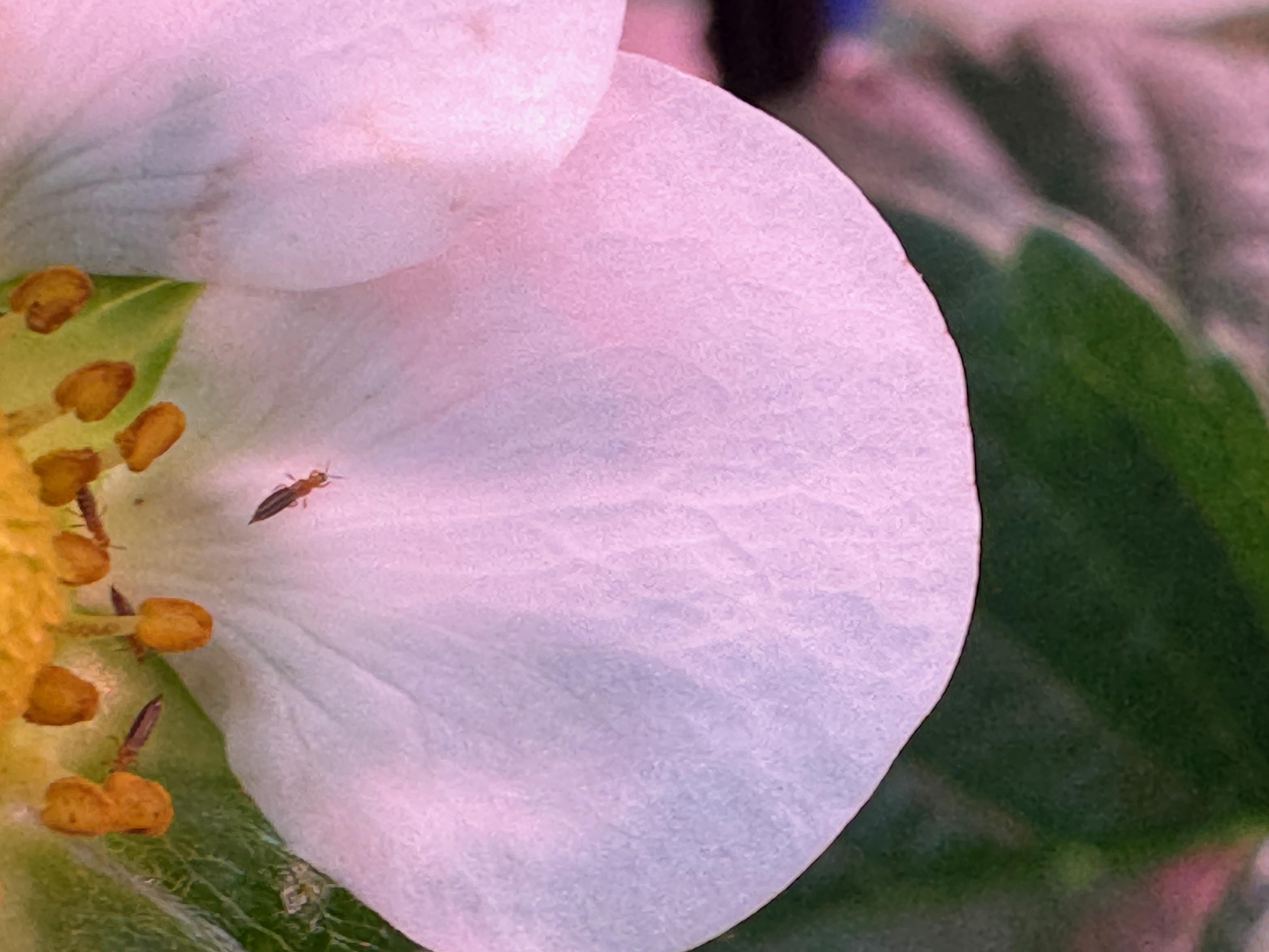tiny_pests: (79, 666, 194, 787), (231, 441, 356, 545), (41, 458, 138, 573)
